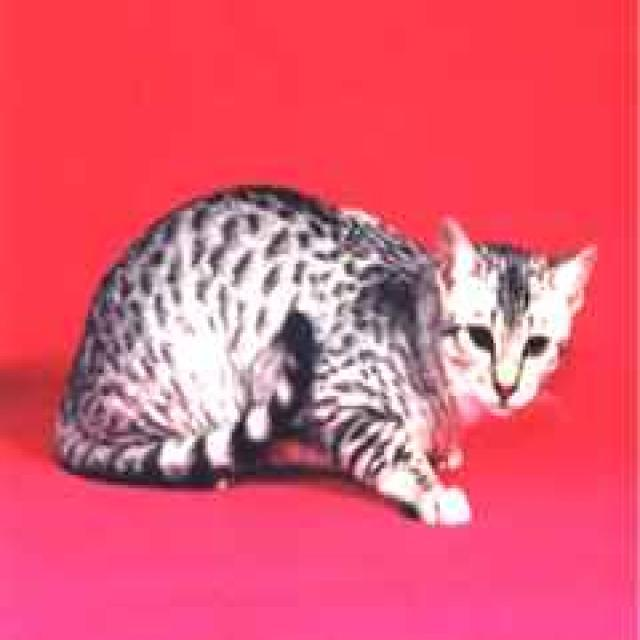Egyptian_Mau: (437, 211, 595, 416)
